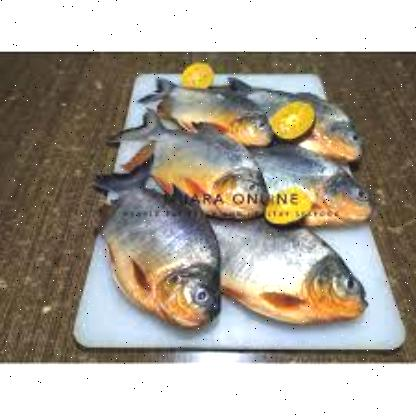ikan-pacu: (92, 170, 224, 332), (216, 220, 372, 334), (126, 118, 264, 210), (253, 144, 379, 232), (251, 80, 369, 160), (159, 78, 271, 140)
